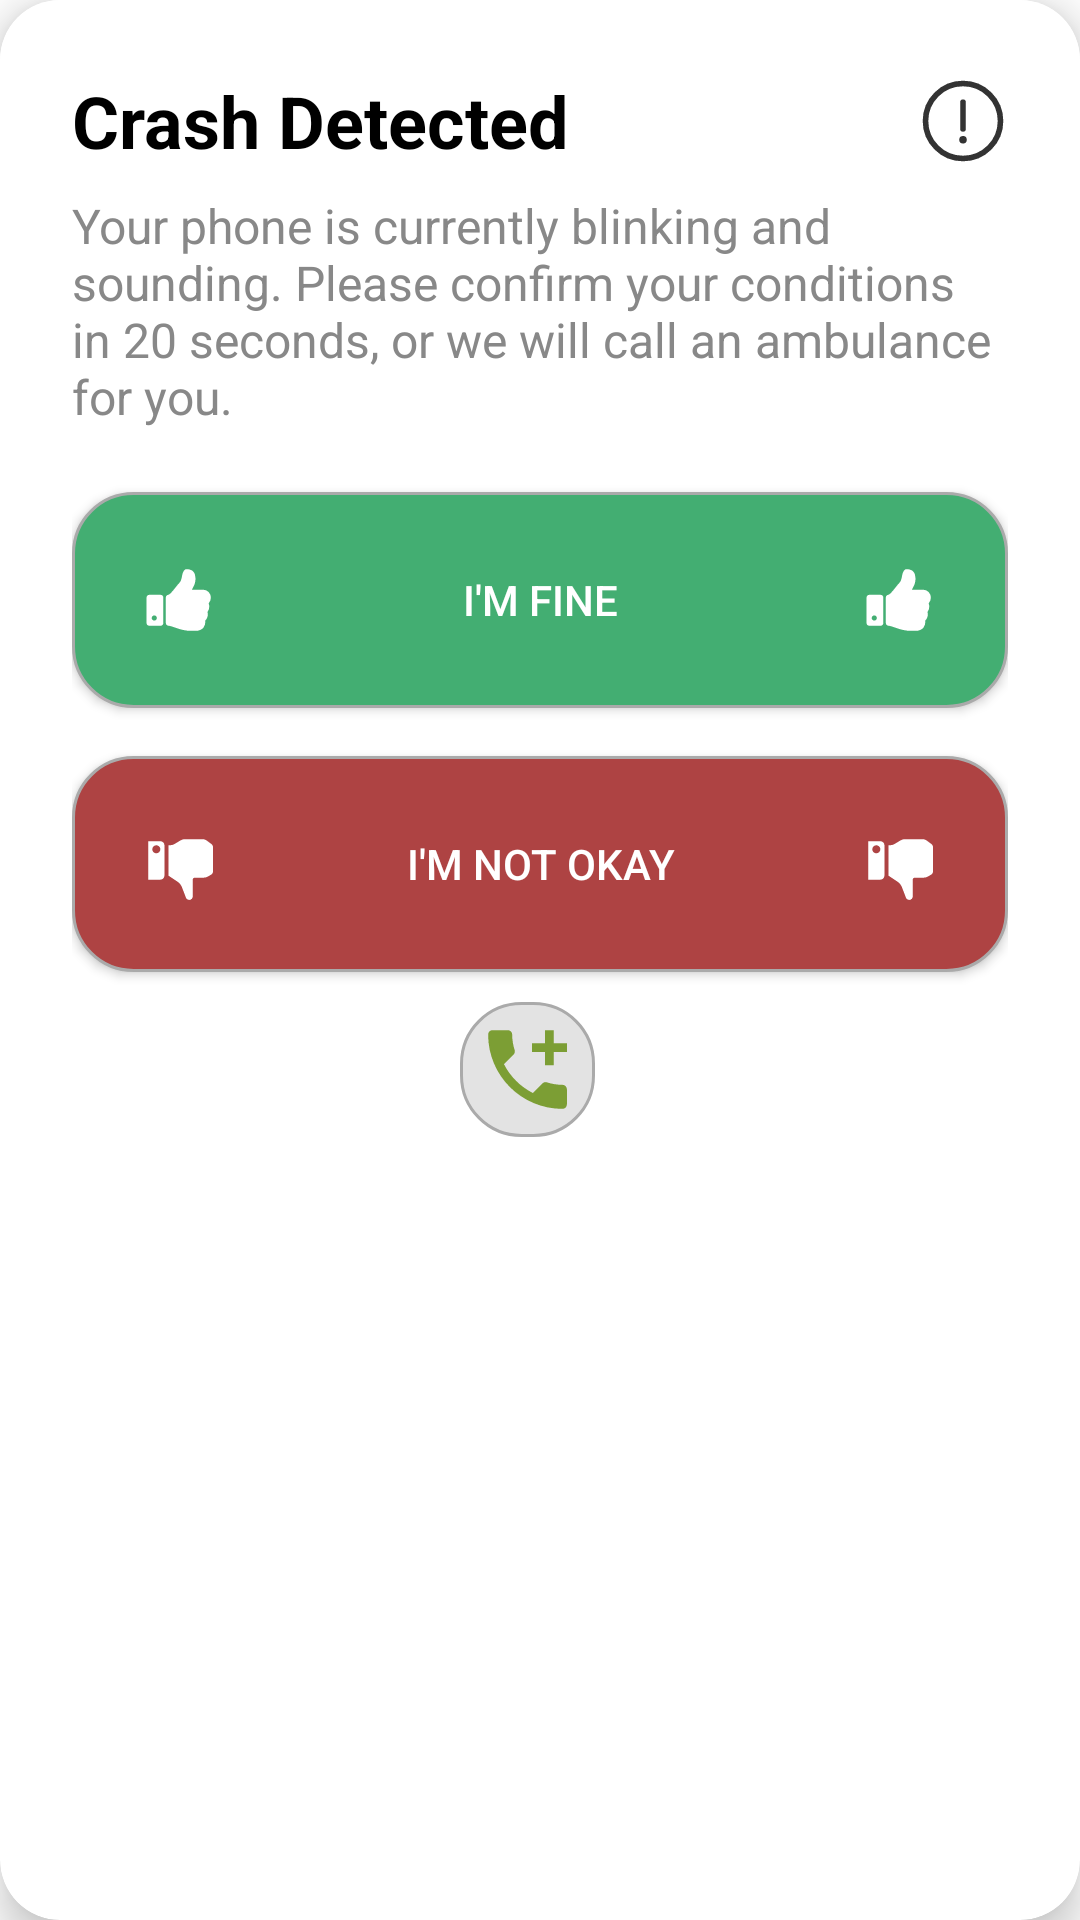

Where to tap for icons on this 1080x1920 app screen, as (x=x, y=y):
call: (x=527, y=1069)
warning: (x=963, y=121)
